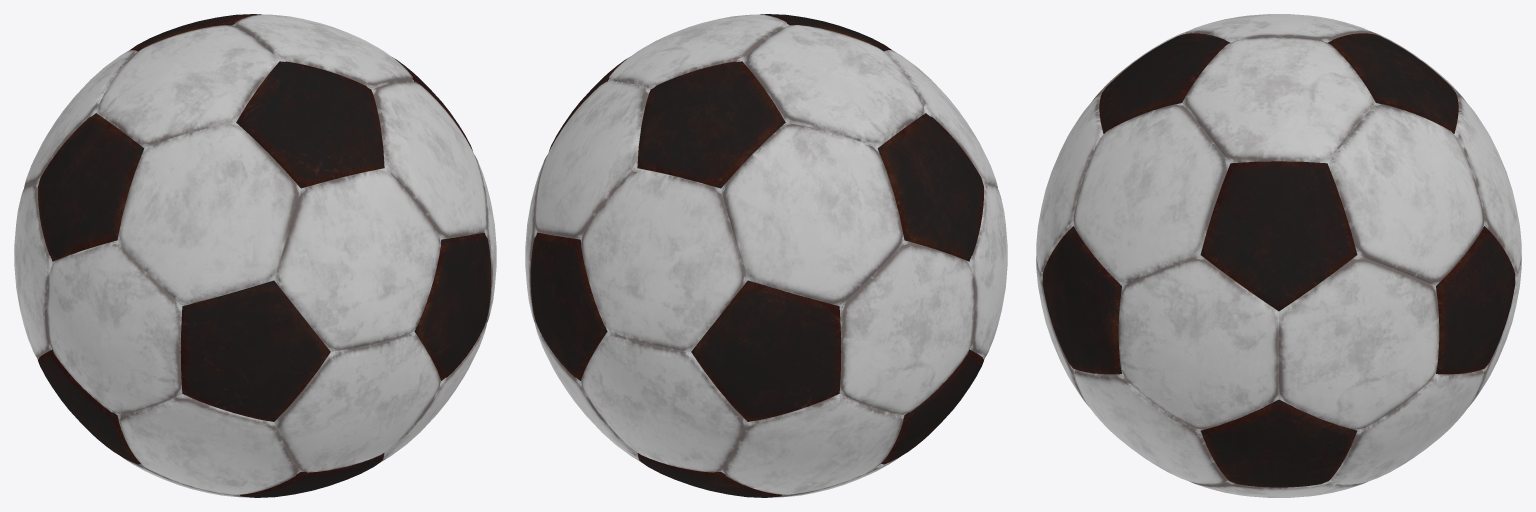
File: ball.glb
3 views of the same model, side by side, from view 1: azimuth 30°, elevation 25°; view 2: azimuth 150°, elevation 25°; view 3: azimuth 270°, elevation 25° (orthographic).
Parts seen in each view (by area): view 1: Hedra2; view 2: Hedra2; view 3: Hedra2.
Part boxes in pixels (<box>): Hedra2: <box>14,14,496,497</box>; Hedra2: <box>525,14,1007,497</box>; Hedra2: <box>1036,14,1521,497</box>.
Size of the model in its own units: 1.68 by 1.68 by 1.68.
1 material, 1 textured.
